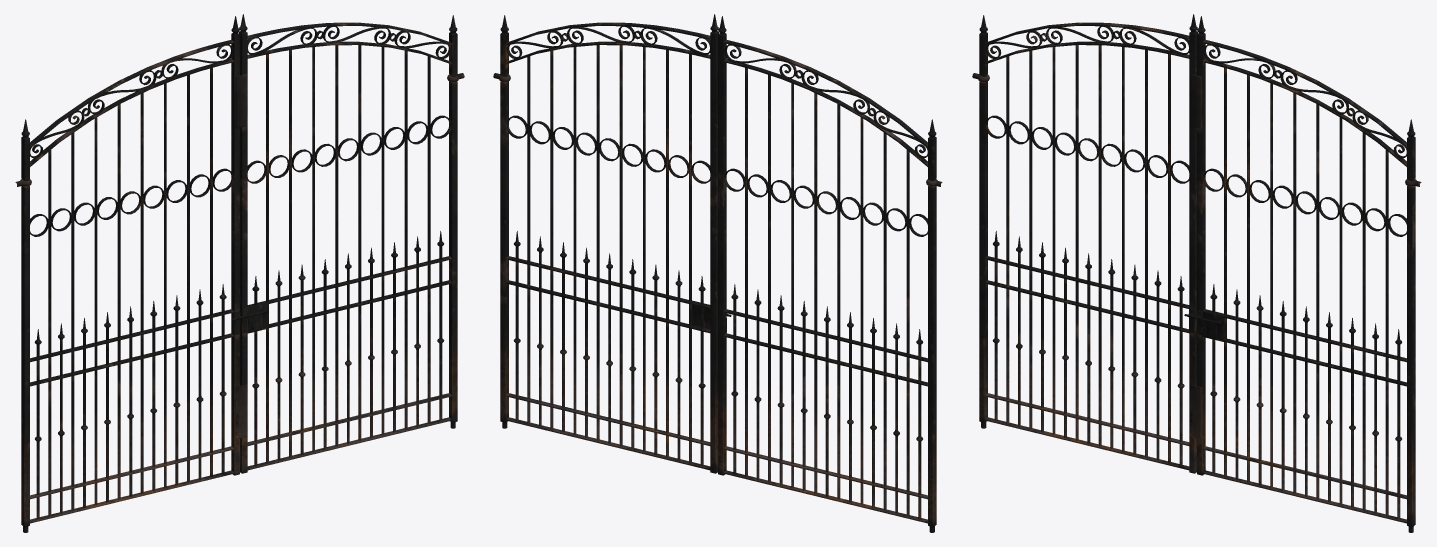
Rendered from large_iron_gate.glb.
The picture shows the model from 3 angles, left to right: view 1: azimuth 30°, elevation 25°; view 2: azimuth 150°, elevation 25°; view 3: azimuth 330°, elevation 25°; orthographic projection.
Visible parts, largest first — view 1: large_iron_gate_right_door, large_iron_gate_left_door; view 2: large_iron_gate_left_door, large_iron_gate_right_door; view 3: large_iron_gate_right_door, large_iron_gate_left_door.
Boxes of the visible parts, x1,y1,x2,y2 form: large_iron_gate_right_door: [235, 14, 457, 473]; large_iron_gate_left_door: [21, 16, 241, 532]; large_iron_gate_left_door: [718, 16, 936, 532]; large_iron_gate_right_door: [500, 14, 718, 473]; large_iron_gate_right_door: [1190, 16, 1415, 532]; large_iron_gate_left_door: [979, 14, 1197, 473].
Bounding box in the file's own units: 2.95 × 2.93 × 0.0973.
Materials: 1 (1 with a texture image).
